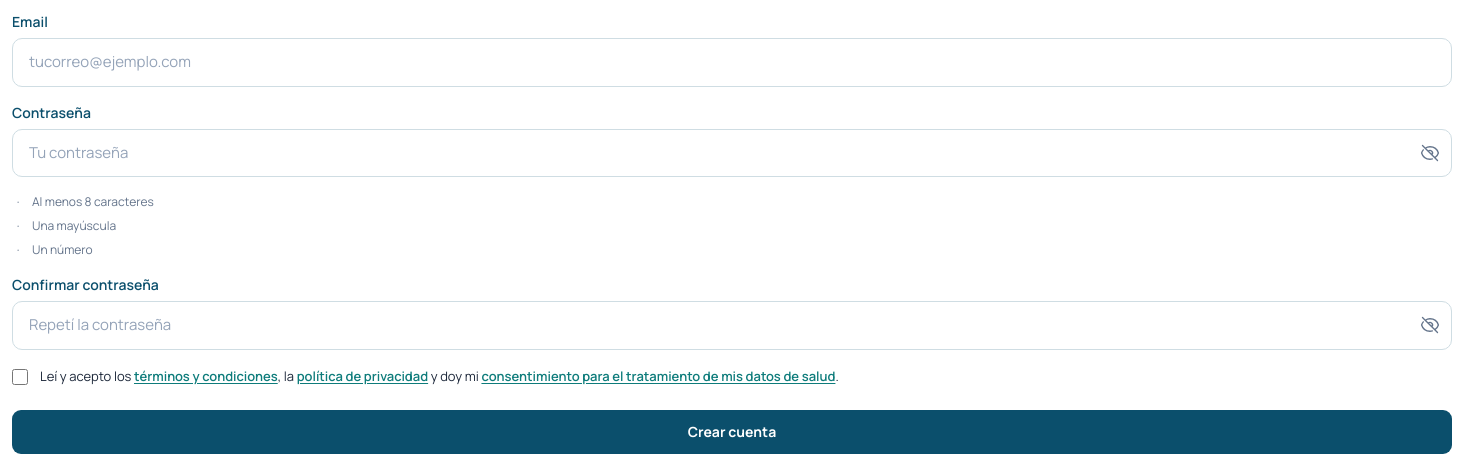
Test case: RegisterForm › envía datos válidos y muestra el estado de éxito
Step 1. Type "user@test.com" into the field labelled "Email" → (732, 62), box top-left (12, 38), bottom-right (1452, 86)
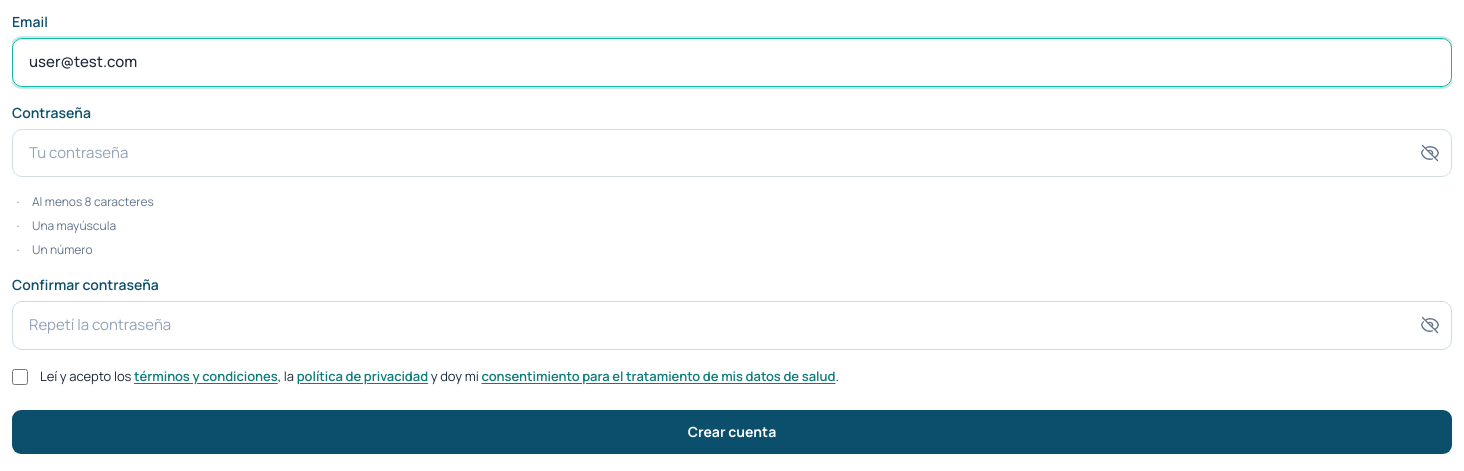
Step 2. Type "Password1" into the password field labelled "Contraseña" → (732, 153), box top-left (12, 128), bottom-right (1452, 177)
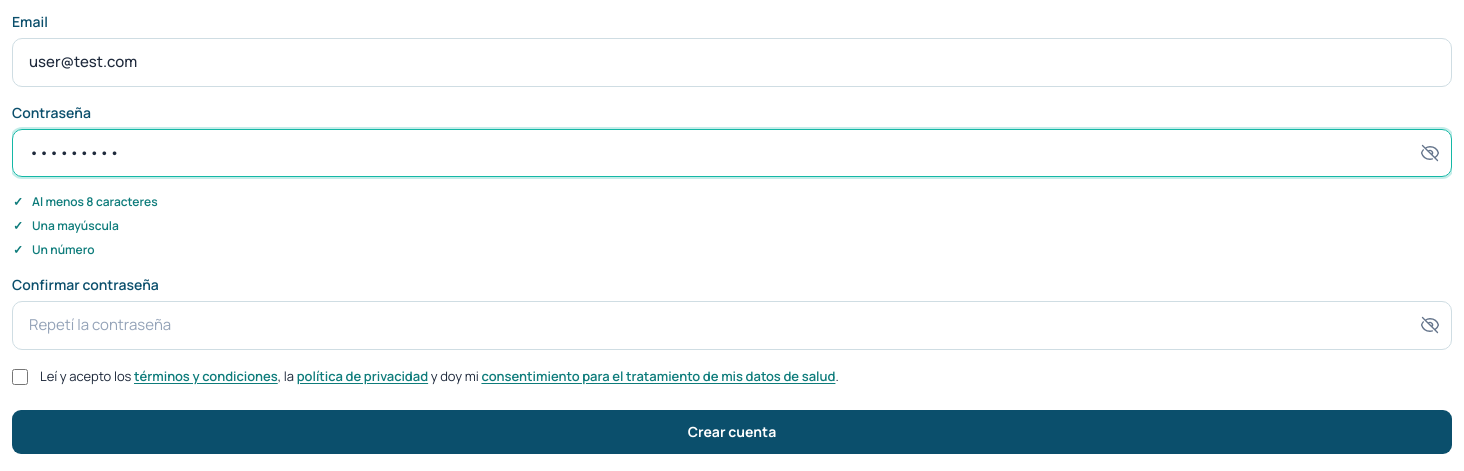
Step 3. Type "Password1" into the password field labelled "Confirmar contraseña" → (732, 325), box top-left (12, 301), bottom-right (1452, 350)
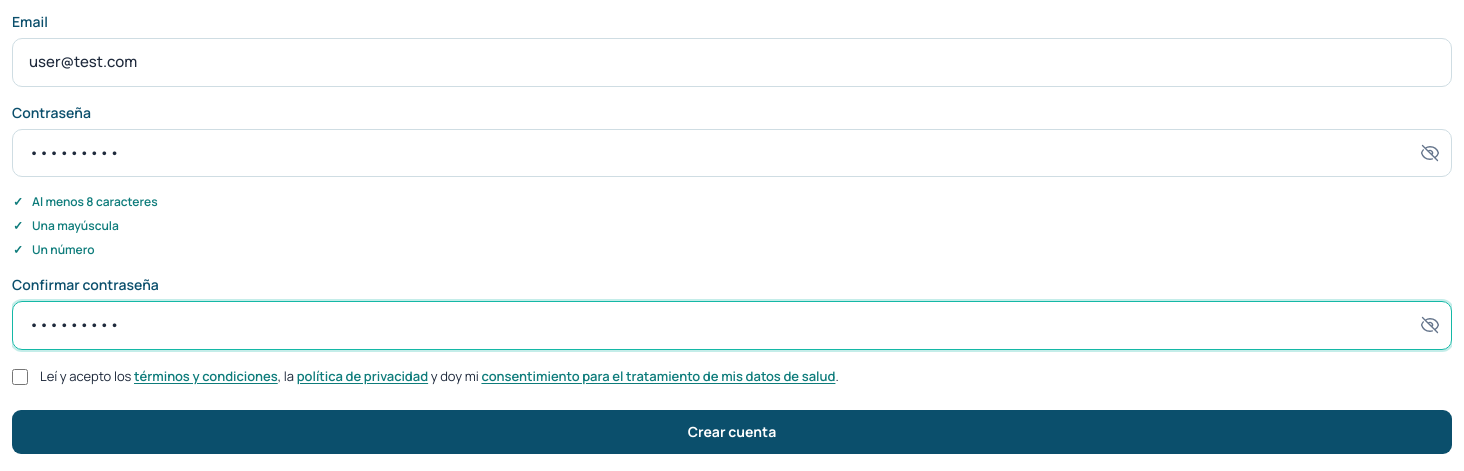
Step 4. Click the checkbox labelled "Leí y acepto" → (20, 376), box top-left (12, 368), bottom-right (28, 384)
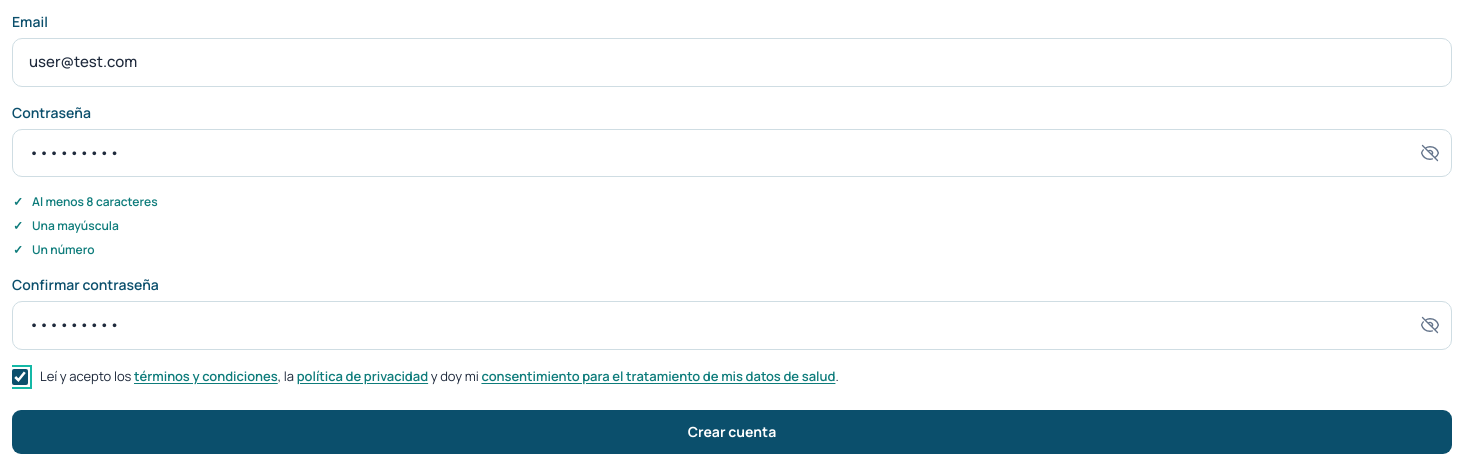
Step 5. Click the button "Crear cuenta" → (732, 432), box top-left (12, 410), bottom-right (1452, 454)
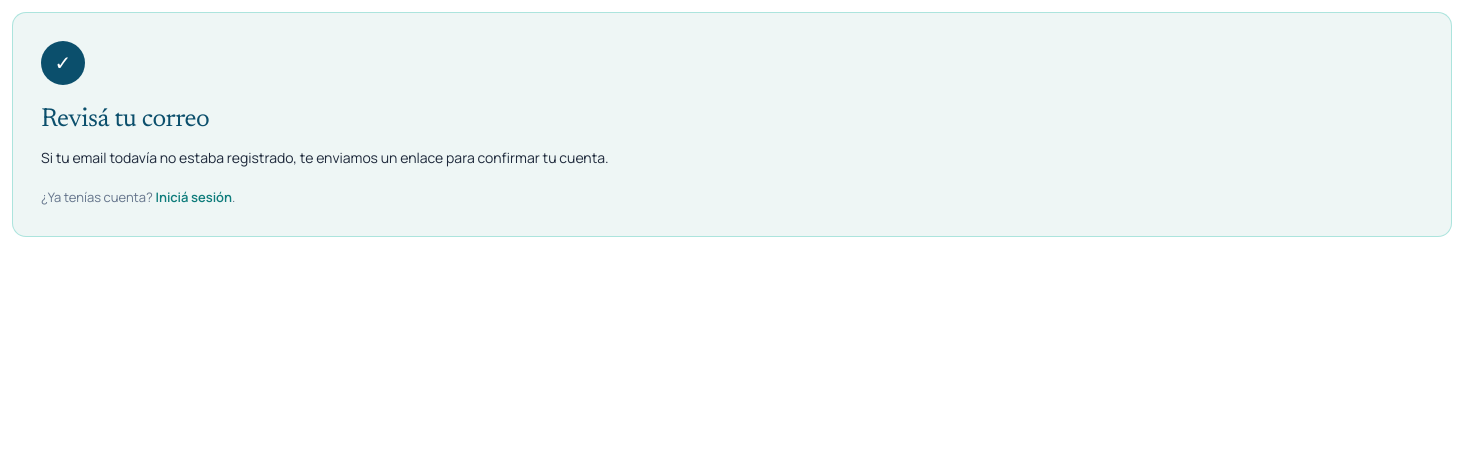
Check: the heading "Revisá tu correo" is shown, box top-left (41, 107), bottom-right (209, 133)
